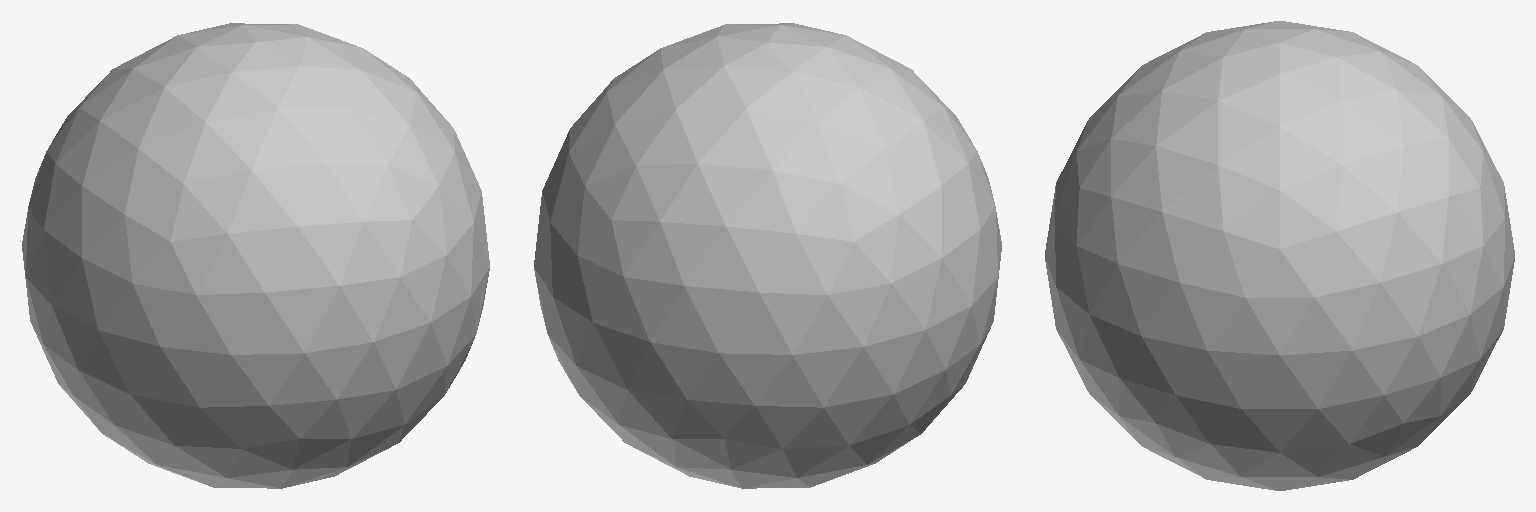
Rendered from item_tank_sphere4.obj.
3 views of the same model, side by side, from view 1: azimuth 30°, elevation 25°; view 2: azimuth 150°, elevation 25°; view 3: azimuth 270°, elevation 25° (orthographic).
Visible parts, largest first — view 1: Icosphere_Icosphere.006; view 2: Icosphere_Icosphere.006; view 3: Icosphere_Icosphere.006.
Boxes of the visible parts, <box> form: Icosphere_Icosphere.006: <box>22,23,489,488</box>; Icosphere_Icosphere.006: <box>534,23,1001,488</box>; Icosphere_Icosphere.006: <box>1045,21,1514,490</box>.
Size of the model in its own units: 0.8 by 0.8 by 0.8.